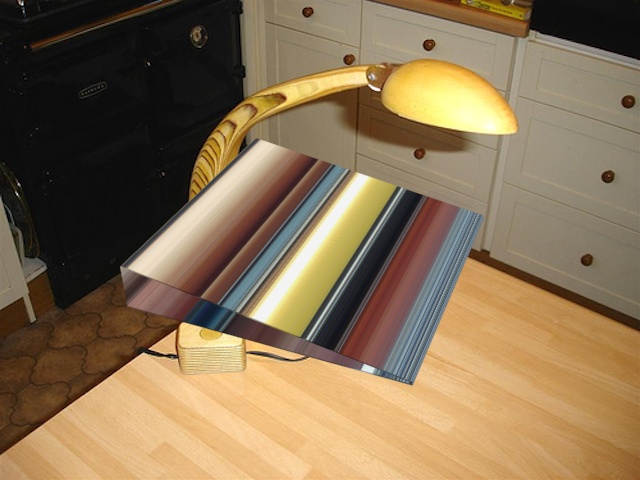ring_binder: (112, 129, 497, 400)
